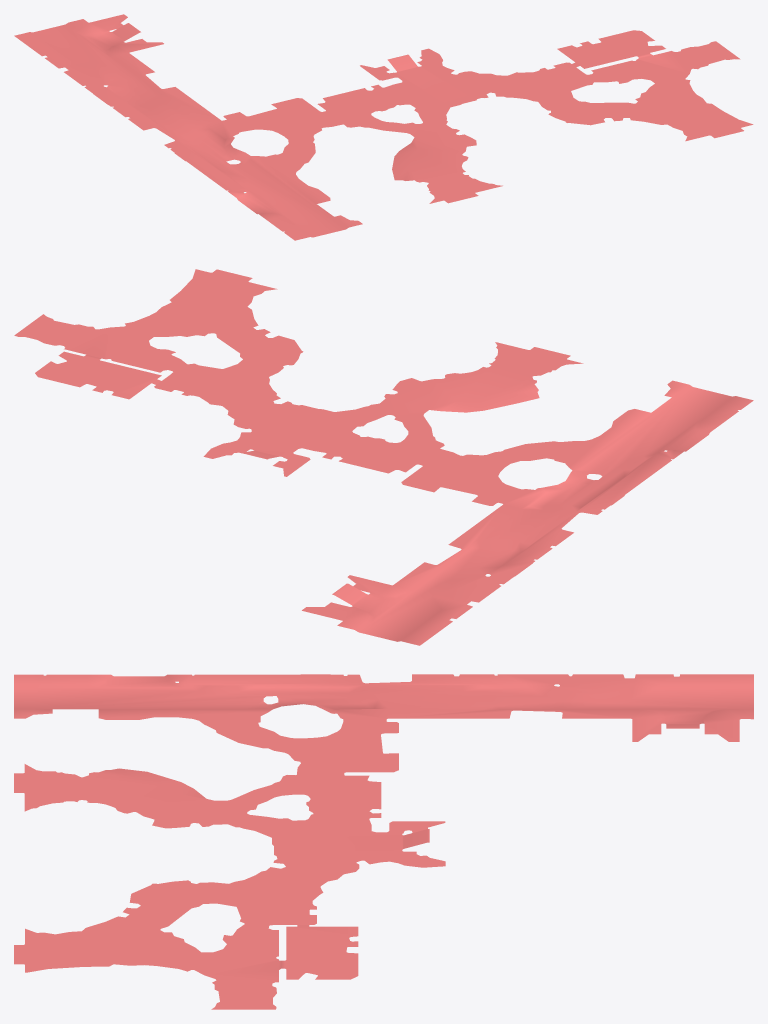
Rendered from Prohibited_FOREST.fbx.
The picture shows the model from 3 angles, top to bottom: view 1: azimuth 30°, elevation 25°; view 2: azimuth 150°, elevation 25°; view 3: azimuth 270°, elevation 25°; orthographic projection. The views are drawn at different scales.
Visible parts, largest first — view 1: Forest; view 2: Forest; view 3: Forest.
Part boxes in pixels (<box>): Forest: <box>14,14,753,240</box>; Forest: <box>14,269,753,645</box>; Forest: <box>14,674,753,1009</box>.
Bounding box in the file's own units: 90.17 × 1.29 × 84.01.
